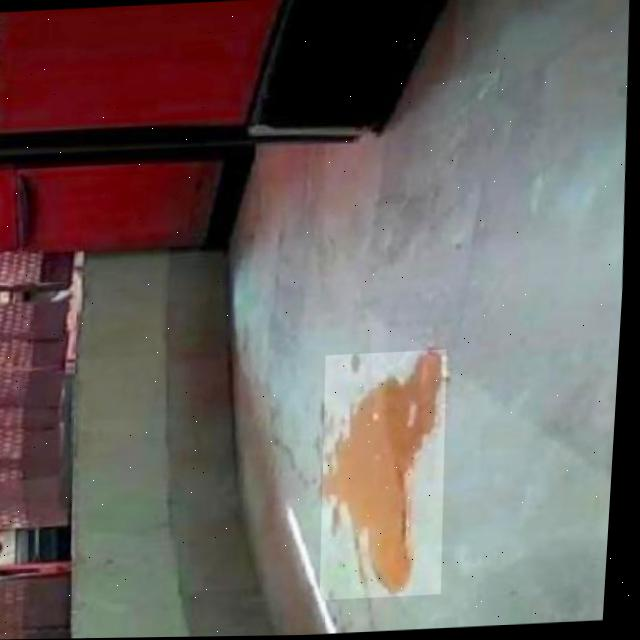spillage: (329, 350, 450, 596)
